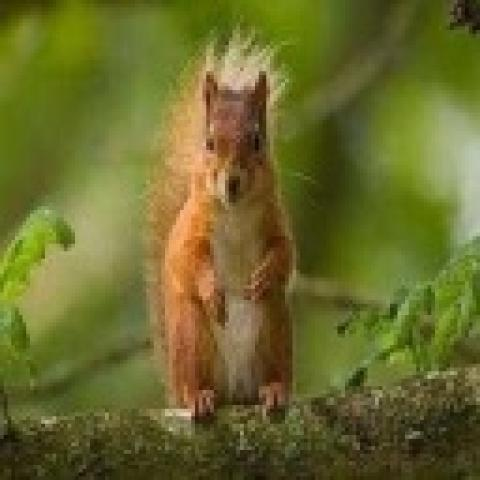small_animal: (139, 26, 300, 420)
